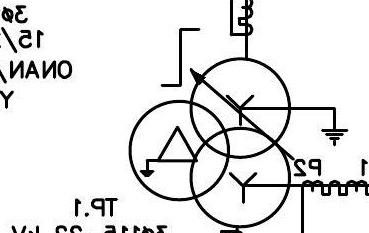11522_tx_ynyn0d1: (127, 56, 292, 230)
